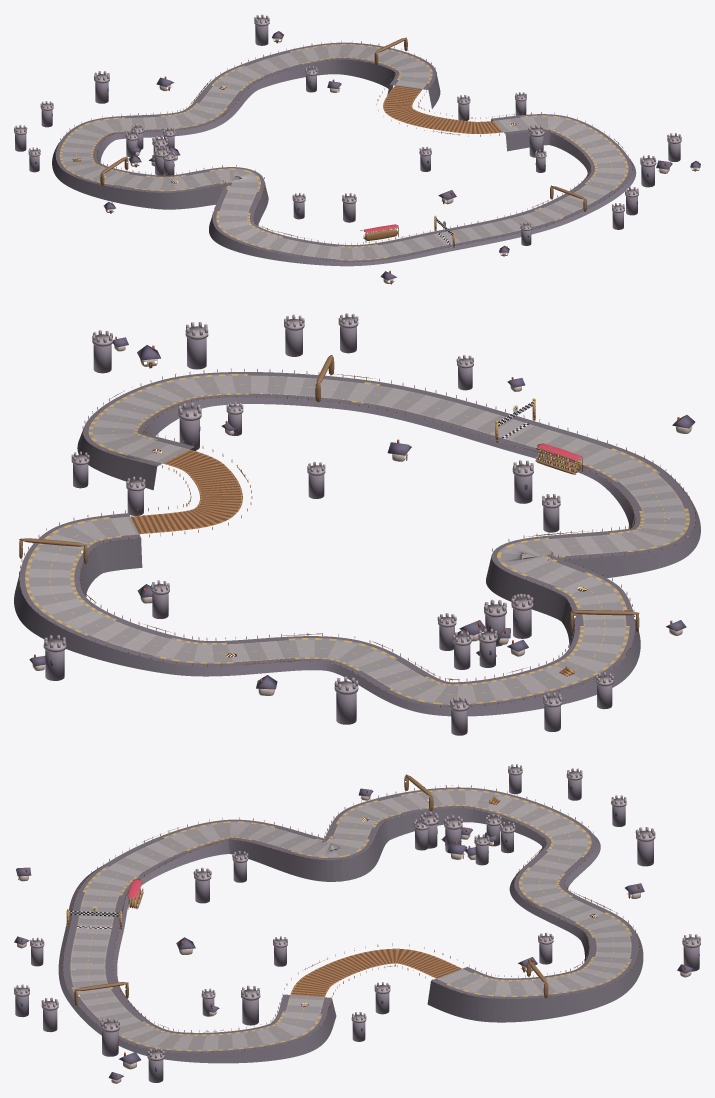
The model's file is carreras_fortaleza.glb.
3 views of the same model, one above another, from view 1: azimuth 30°, elevation 25°; view 2: azimuth 150°, elevation 25°; view 3: azimuth 270°, elevation 25° (orthographic). The views are drawn at different scales.
Visible parts, largest first — view 1: fortaleza Tela | camino claro fortaleza -1 0, fortaleza Tela | camino fortaleza -1 0, fortaleza Tela | talud fortaleza -1 -1, fortaleza Tela | talud fortaleza -1 0, fortaleza Tela | camino claro fortaleza 0 -1, fortaleza Tela | camino fortaleza 0 -1, fortaleza Tela | camino fortaleza -1 -1, fortaleza Tela | camino claro fortaleza -1 -1, fortaleza Tela | talud fortaleza 0 0, fortaleza Tela | talud fortaleza 0 -1, fortaleza Tela | orilla fortaleza 0 -1, fortaleza Tela | orilla fortaleza -1 -1 (+18 smaller); view 2: fortaleza Tela | talud fortaleza -1 0, fortaleza Tela | camino fortaleza -1 0, fortaleza Tela | camino claro fortaleza -1 0, fortaleza Tela | camino claro fortaleza 0 -1, fortaleza Tela | camino fortaleza 0 -1, fortaleza Tela | talud fortaleza 0 0, fortaleza Tela | talud fortaleza 0 -1, fortaleza Tela | camino claro fortaleza -1 -1, fortaleza Tela | camino fortaleza -1 -1, fortaleza Tela | orilla fortaleza -1 0, fortaleza Tela | orilla fortaleza 0 -1, fortaleza Tela | camino fortaleza 0 0 (+24 smaller); view 3: fortaleza Tela | talud fortaleza 0 0, fortaleza Tela | camino claro fortaleza -1 0, fortaleza Tela | camino fortaleza -1 0, fortaleza Tela | talud fortaleza -1 0, fortaleza Tela | camino fortaleza 0 -1, fortaleza Tela | camino claro fortaleza 0 -1, fortaleza Tela | talud fortaleza 0 -1, fortaleza Tela | talud fortaleza -1 -1, fortaleza Tela | camino fortaleza -1 -1, fortaleza Tela | camino claro fortaleza -1 -1, fortaleza Tela | orilla fortaleza -1 0, fortaleza Tela | piedra -1 0 (+20 smaller).
Part boxes in pixels (x1,y1,x2,y2): fortaleza Tela | camino claro fortaleza -1 0: (62,78,245,189); fortaleza Tela | camino fortaleza -1 0: (62,81,243,190); fortaleza Tela | talud fortaleza -1 -1: (170,184,456,266); fortaleza Tela | talud fortaleza -1 0: (52,90,248,209); fortaleza Tela | camino claro fortaleza 0 -1: (440,116,625,243); fortaleza Tela | camino fortaleza 0 -1: (451,116,625,242); fortaleza Tela | camino fortaleza -1 -1: (219,170,444,259); fortaleza Tela | camino claro fortaleza -1 -1: (219,173,448,259); fortaleza Tela | talud fortaleza 0 0: (246,59,440,108); fortaleza Tela | talud fortaleza 0 -1: (455,119,636,249); fortaleza Tela | orilla fortaleza 0 -1: (434,114,632,246); fortaleza Tela | orilla fortaleza -1 -1: (178,171,452,262); fortaleza Tela | talud fortaleza -1 0: (188,556,640,716); fortaleza Tela | camino fortaleza -1 0: (212,556,626,703); fortaleza Tela | camino claro fortaleza -1 0: (204,556,625,702); fortaleza Tela | camino claro fortaleza 0 -1: (93,375,525,461); fortaleza Tela | camino fortaleza 0 -1: (92,375,513,463); fortaleza Tela | talud fortaleza 0 0: (14,535,188,675); fortaleza Tela | talud fortaleza 0 -1: (77,397,500,490); fortaleza Tela | camino claro fortaleza -1 -1: (502,424,685,556); fortaleza Tela | camino fortaleza -1 -1: (501,425,685,560); fortaleza Tela | orilla fortaleza -1 0: (189,551,634,707); fortaleza Tela | orilla fortaleza 0 -1: (83,372,529,466); fortaleza Tela | camino fortaleza 0 0: (29,516,197,661); fortaleza Tela | talud fortaleza 0 0: (427,924,643,1022); fortaleza Tela | camino claro fortaleza -1 0: (329,790,616,927); fortaleza Tela | camino fortaleza -1 0: (329,790,612,925); fortaleza Tela | talud fortaleza -1 0: (340,787,600,931); fortaleza Tela | camino fortaleza 0 -1: (70,933,324,1049); fortaleza Tela | camino claro fortaleza 0 -1: (70,927,323,1049); fortaleza Tela | talud fortaleza 0 -1: (58,928,336,1063); fortaleza Tela | talud fortaleza -1 -1: (65,840,341,930); fortaleza Tela | camino fortaleza -1 -1: (77,822,352,925); fortaleza Tela | camino claro fortaleza -1 -1: (77,822,338,927); fortaleza Tela | orilla fortaleza -1 0: (337,787,628,925); fortaleza Tela | piedra -1 0: (415,774,653,866).
Size of what is drawn, in the model's own units: 301 by 17.3 by 293.
